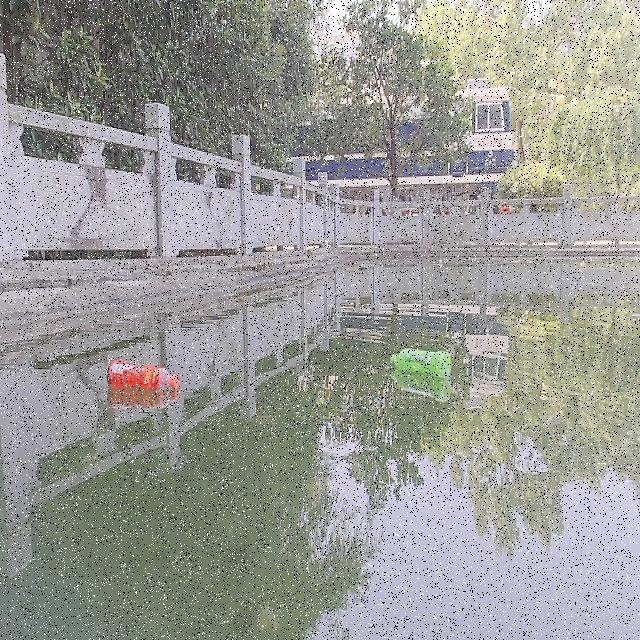Bottle: (105, 358, 180, 386), (389, 346, 453, 378)
